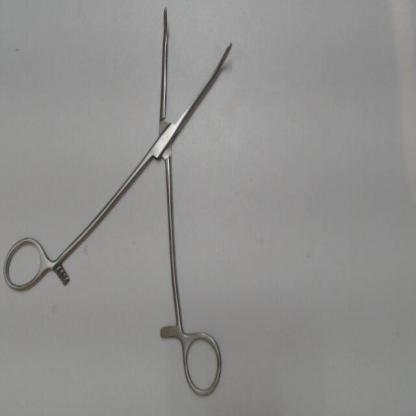Lahey Forceps: (0, 2, 242, 404)
